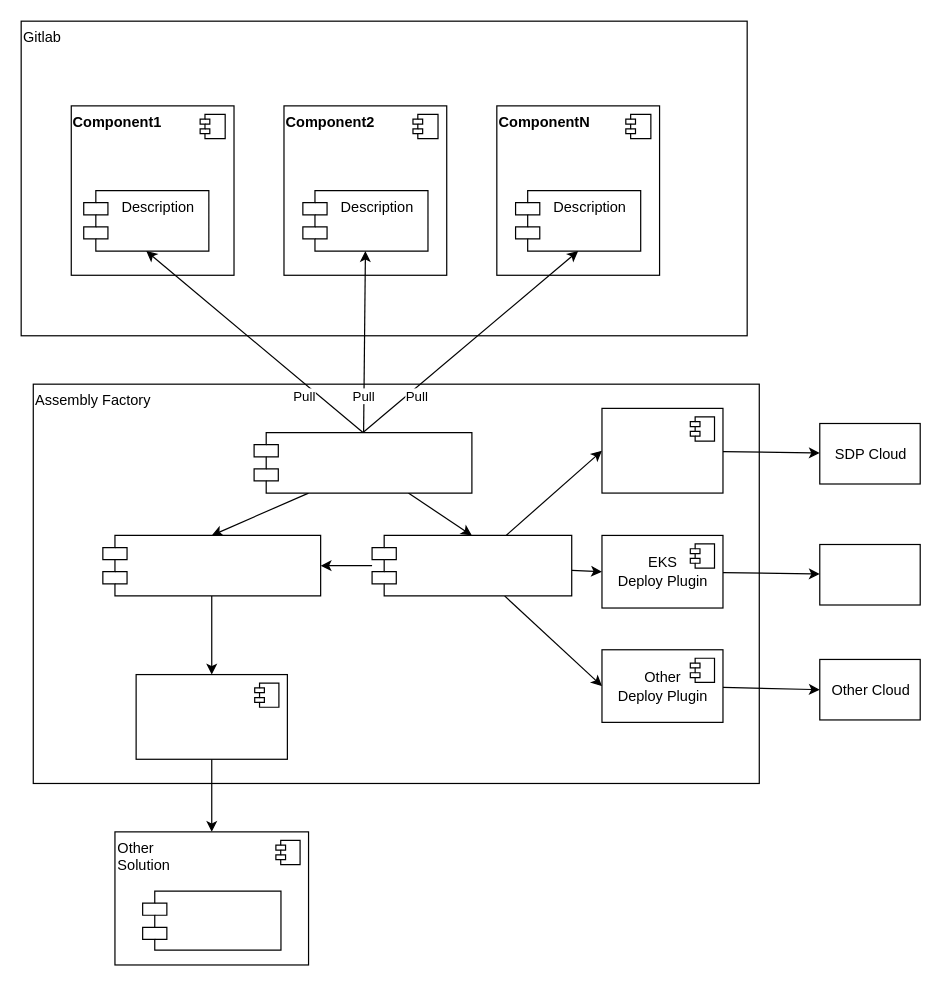
The diagram is 941 pixels wide and 986 high, and some of its shapes have lost their labels. The centre of each missing label's shape, as x and y in pixels:
"Assembly Manager" belongs at point 211,565.
"Assembly Plugin" belongs at point 211,716.
"AWS Cloud" belongs at point 869,574.
"build system" belongs at point 211,920.
"Deployment Manager" belongs at point 471,565.
"Description Parser" belongs at point 362,462.
"SDP Deploy Plugin" belongs at point 662,450.
